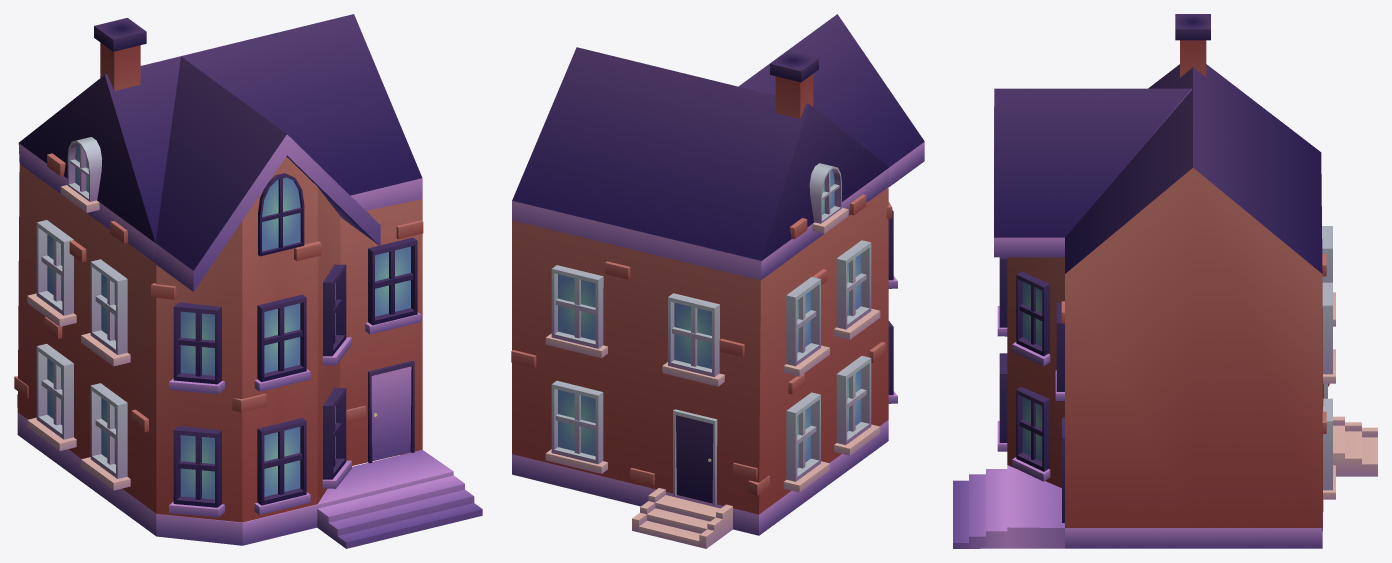
File: SM_House_L_Short_BackDoor_03.fbx
The picture shows the model from 3 angles, left to right: view 1: azimuth 30°, elevation 25°; view 2: azimuth 150°, elevation 25°; view 3: azimuth 270°, elevation 25°; orthographic projection. The views are drawn at different scales.
Visible parts, largest first — view 1: SM_House_L_Short_BackDoor_03; view 2: SM_House_L_Short_BackDoor_03; view 3: SM_House_L_Short_BackDoor_03.
Part boxes in pixels (bbox=[...]): SM_House_L_Short_BackDoor_03: bbox=[14, 14, 482, 548]; SM_House_L_Short_BackDoor_03: bbox=[511, 14, 924, 548]; SM_House_L_Short_BackDoor_03: bbox=[953, 14, 1377, 548].
Size of the model in its own units: 7.23 by 10.05 by 10.97.
